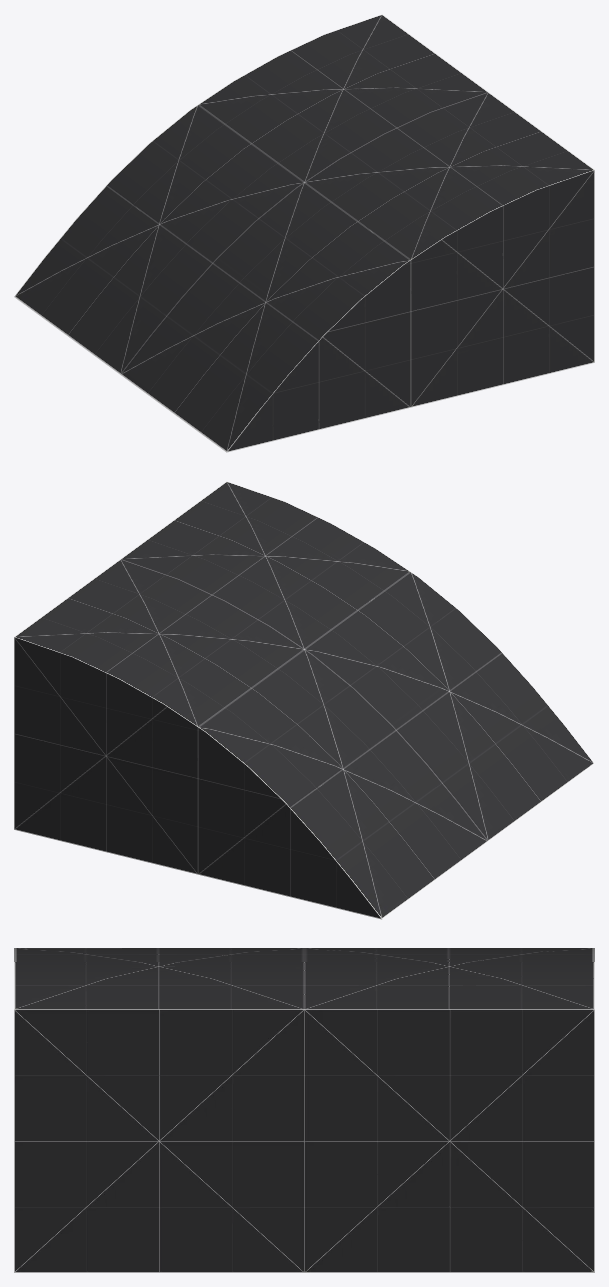
The model's file is ramp_inverse-transformed.glb.
3 renders of one model, top to bottom at view 1: azimuth 30°, elevation 25°; view 2: azimuth 150°, elevation 25°; view 3: azimuth 270°, elevation 25°, orthographic. The views are drawn at different scales.
Parts seen in each view (by area): view 1: RampInverse; view 2: RampInverse; view 3: RampInverse.
Part boxes in pixels (x1,y1,x2,y2): RampInverse: (14, 14, 594, 452); RampInverse: (14, 481, 594, 919); RampInverse: (14, 948, 594, 1272).
Bounding box in the file's own units: 10 × 5 × 10.
1 material, 1 textured.
